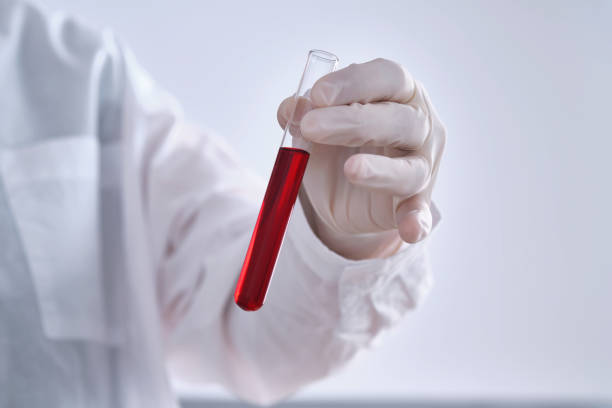blood: (234, 144, 310, 312)
